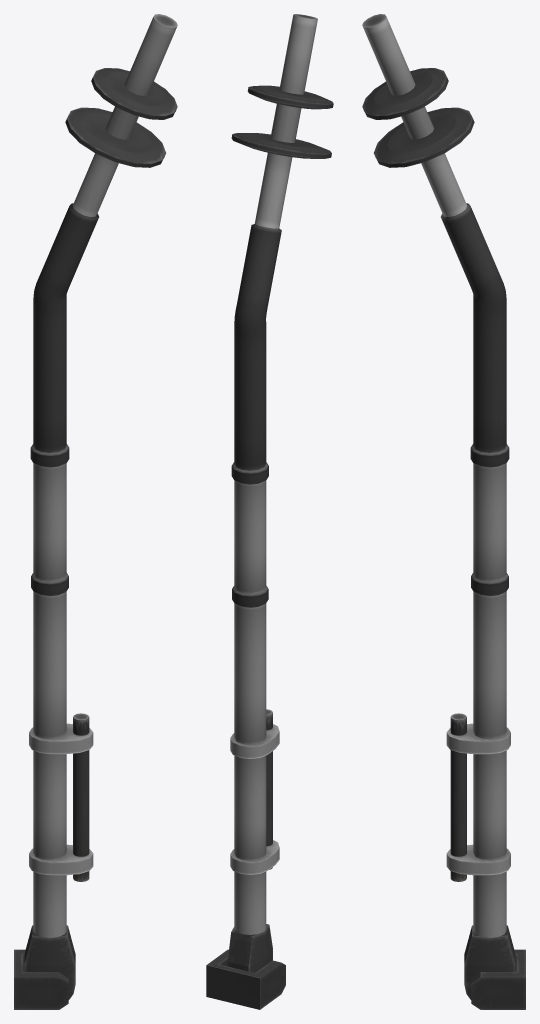
The model's file is LO_Antenna.dae.
3 views of the same model, side by side, from view 1: azimuth 90°, elevation 25°; view 2: azimuth 150°, elevation 25°; view 3: azimuth 270°, elevation 25° (orthographic). The views are drawn at different scales.
Visible parts, largest first — view 1: AntennasTogether_LOAntenna_Redux_Snap3_Antenna, AntennasTogether_LOAntenna_Redux_Snap3_Base, AntennasTogether_LOAntenna_Redux_Snap3_Hinge; view 2: AntennasTogether_LOAntenna_Redux_Snap3_Antenna, AntennasTogether_LOAntenna_Redux_Snap3_Base, AntennasTogether_LOAntenna_Redux_Snap3_Hinge; view 3: AntennasTogether_LOAntenna_Redux_Snap3_Antenna, AntennasTogether_LOAntenna_Redux_Snap3_Base, AntennasTogether_LOAntenna_Redux_Snap3_Hinge.
Boxes of the visible parts, x1,y1,x2,y2 form: AntennasTogether_LOAntenna_Redux_Snap3_Antenna: [29, 14, 177, 937]; AntennasTogether_LOAntenna_Redux_Snap3_Base: [14, 949, 68, 1009]; AntennasTogether_LOAntenna_Redux_Snap3_Hinge: [24, 925, 75, 999]; AntennasTogether_LOAntenna_Redux_Snap3_Antenna: [230, 14, 333, 934]; AntennasTogether_LOAntenna_Redux_Snap3_Base: [206, 949, 285, 1009]; AntennasTogether_LOAntenna_Redux_Snap3_Hinge: [227, 924, 272, 972]; AntennasTogether_LOAntenna_Redux_Snap3_Antenna: [362, 14, 510, 937]; AntennasTogether_LOAntenna_Redux_Snap3_Base: [471, 949, 525, 1009]; AntennasTogether_LOAntenna_Redux_Snap3_Hinge: [464, 925, 515, 999].
Size of the model in its own units: 0.0751 by 0.7684 by 0.1156.
